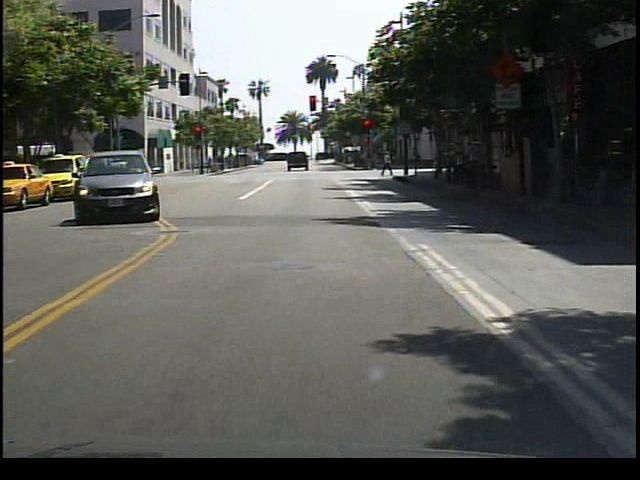person: (411, 144, 427, 174), (382, 150, 397, 176)
